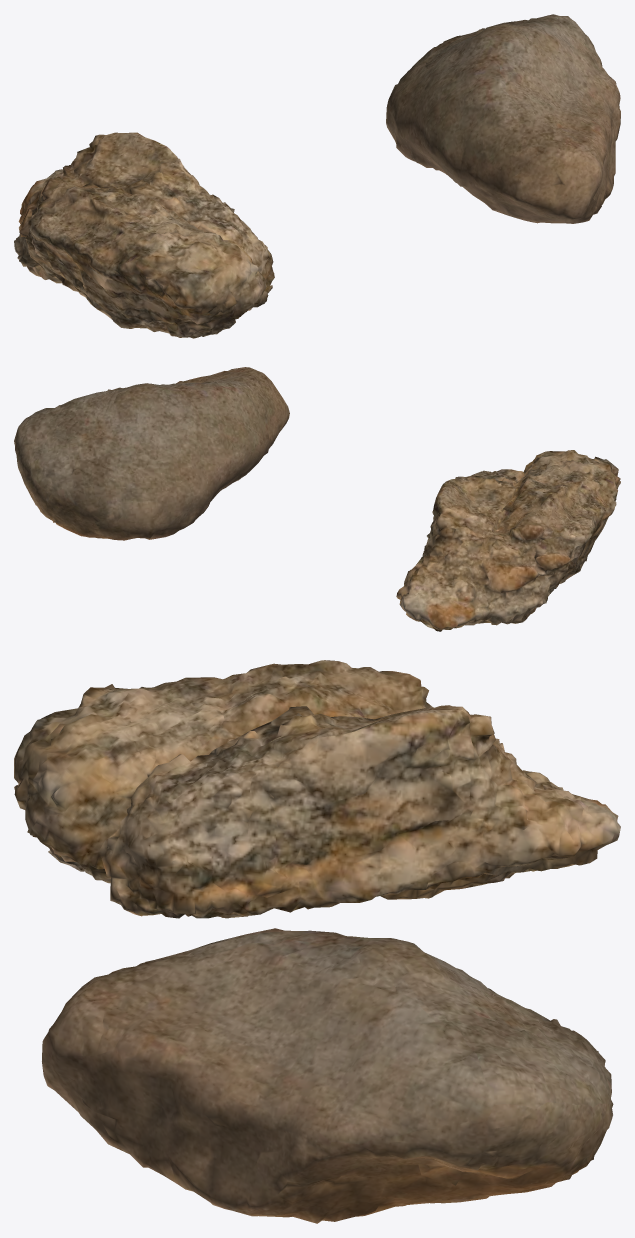
The model's file is namaqualand_boulders_01.glb.
3 views of the same model, one above another, from view 1: azimuth 30°, elevation 25°; view 2: azimuth 150°, elevation 25°; view 3: azimuth 270°, elevation 25° (orthographic). The views are drawn at different scales.
Visible parts, largest first — view 1: namaqualand_rocks_01_a; view 2: namaqualand_rocks_01_a; view 3: namaqualand_rocks_01_a.
Boxes of the visible parts, box(x1,y1,x2,y2) form: namaqualand_rocks_01_a: box(14, 14, 620, 338); namaqualand_rocks_01_a: box(14, 367, 620, 631); namaqualand_rocks_01_a: box(14, 660, 620, 1223).
Size of the model in its own units: 1.06 by 0.2513 by 0.585.
Materials: 1 (1 with a texture image).
